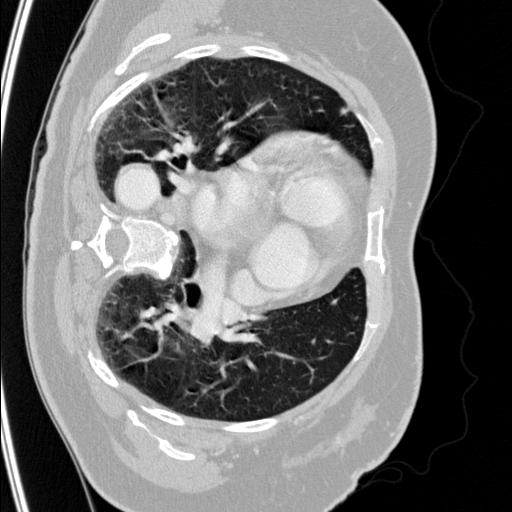nodule: (338, 107, 351, 120)
